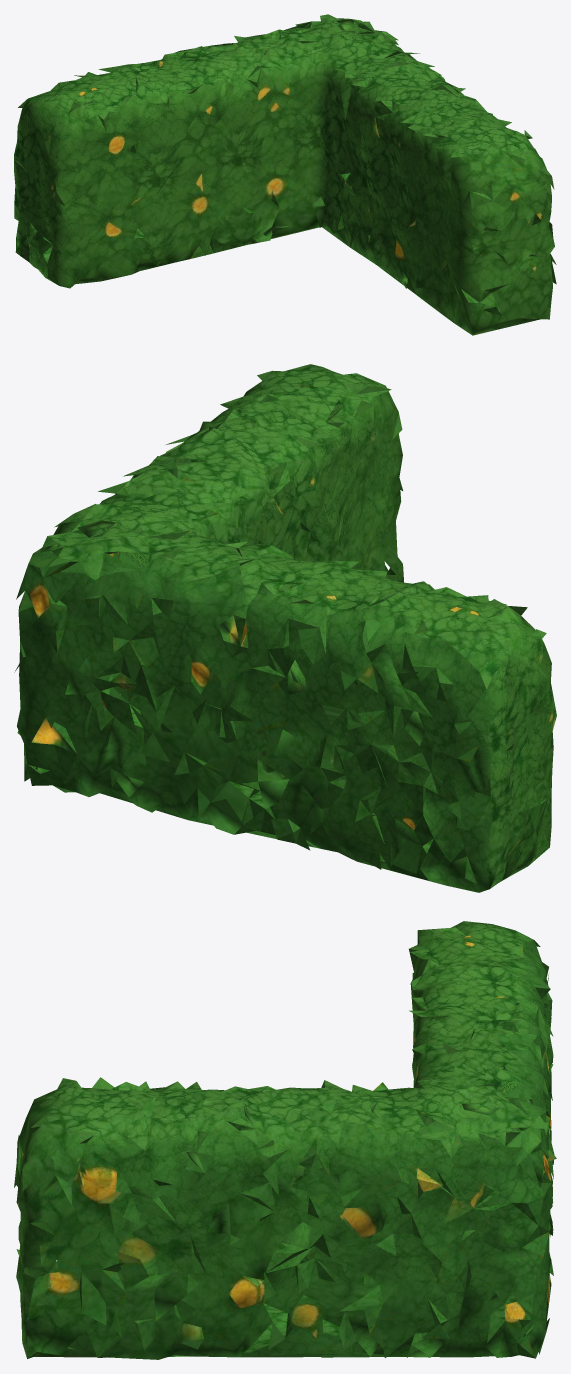
Rendered from court-hedge-corner.glb.
3 renders of one model, top to bottom at view 1: azimuth 30°, elevation 25°; view 2: azimuth 150°, elevation 25°; view 3: azimuth 270°, elevation 25°, orthographic. The views are drawn at different scales.
Bounding box in the file's own units: 1.99 × 0.9663 × 2.
Materials: 1 (1 with a texture image).
